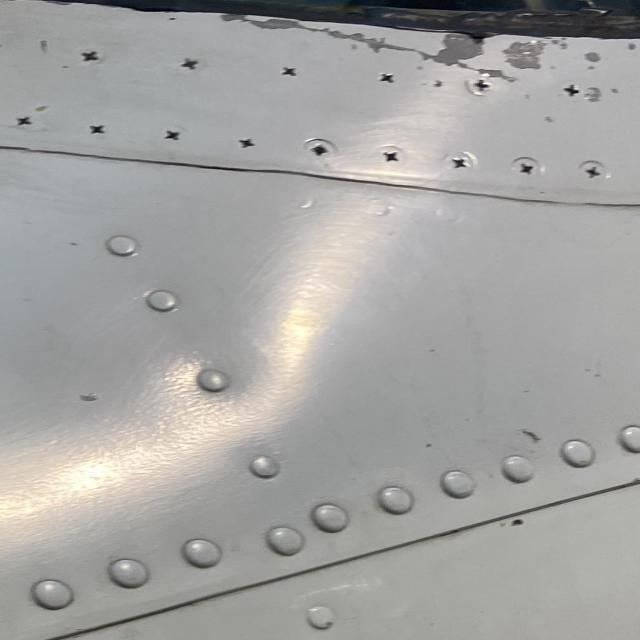Paint-off: (432, 29, 484, 61), (503, 38, 544, 65), (570, 82, 606, 99), (76, 390, 97, 401), (584, 48, 603, 60)
